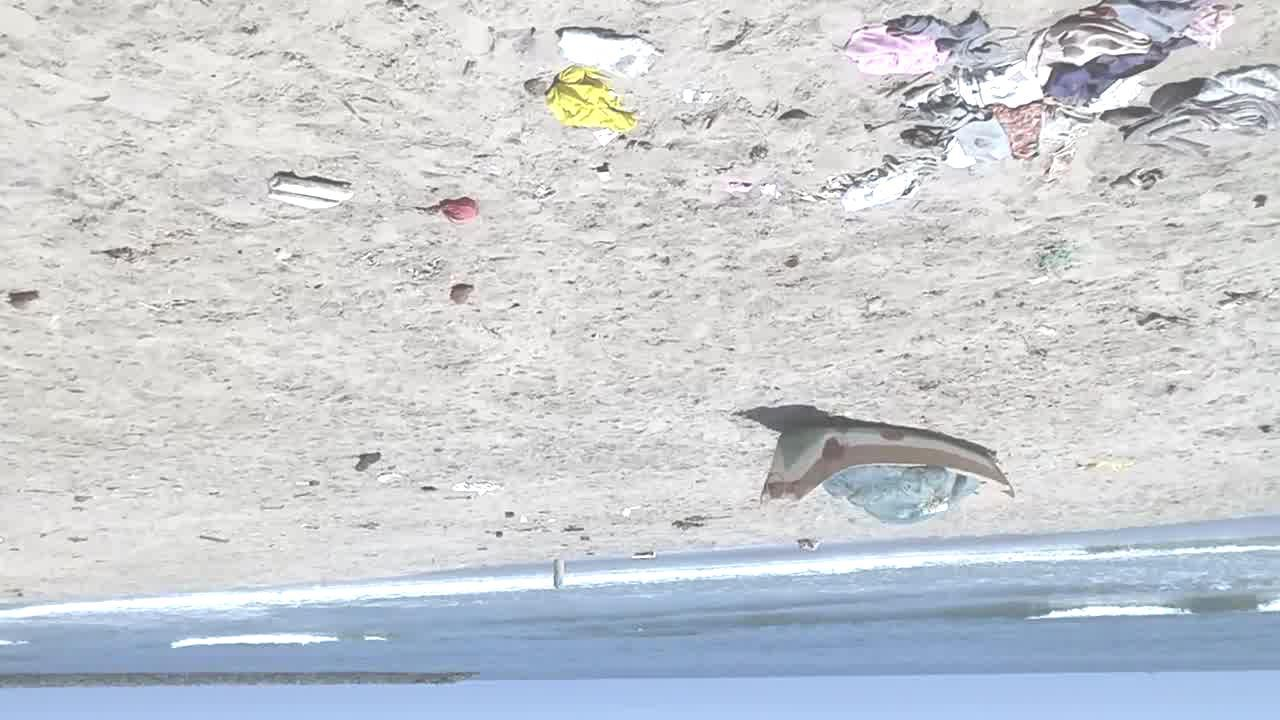large collection of objects: (758, 413, 1018, 529), (253, 171, 359, 219)
obj: (786, 5, 1256, 215), (540, 66, 642, 136), (557, 25, 669, 88), (414, 194, 482, 230), (1132, 310, 1204, 330), (1216, 286, 1275, 310), (450, 478, 504, 497), (4, 288, 41, 311), (354, 450, 387, 472), (374, 470, 414, 485), (446, 284, 474, 305)
sand/background: (0, 513, 1280, 719)
